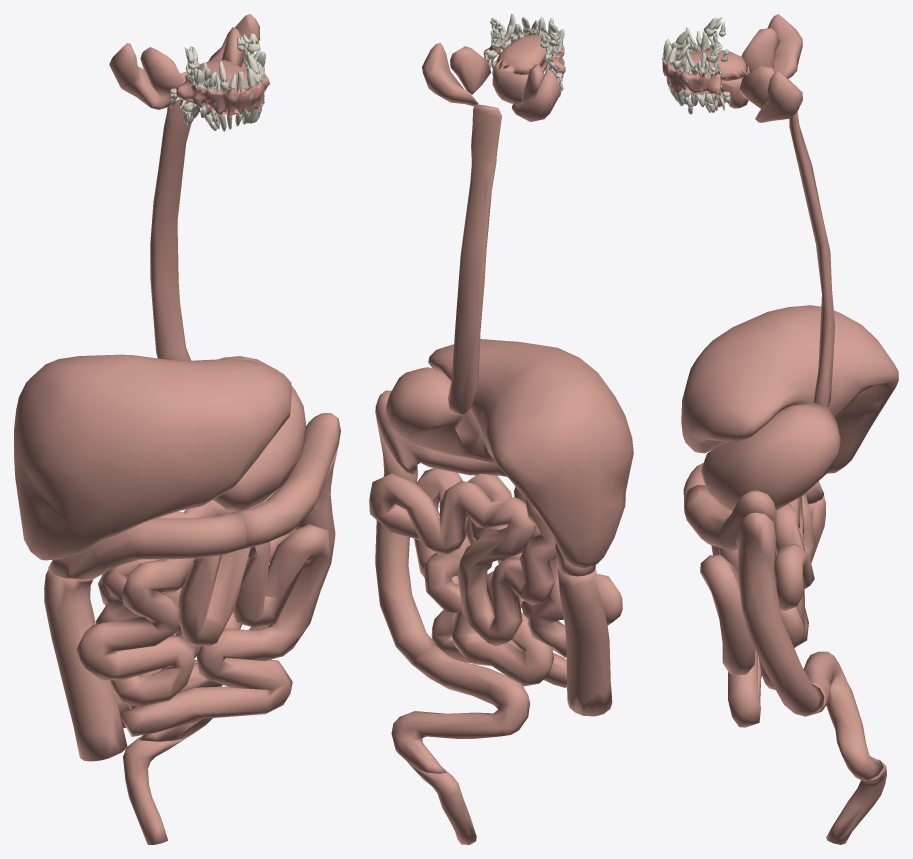
Rendered from pediatric_child_10y_male.digestive.LOD2.glb.
3 views of the same model, side by side, from view 1: azimuth 30°, elevation 25°; view 2: azimuth 150°, elevation 25°; view 3: azimuth 270°, elevation 25° (orthographic). The views are drawn at different scales.
Parts seen in each view (by area): view 1: PEDIATRIC.CHILD_10Y.MALE.DIGESTIVE.LIVER, PEDIATRIC.CHILD_10Y.MALE.DIGESTIVE.SMALL_INTESTINE_WALL, PEDIATRIC.CHILD_10Y.MALE.DIGESTIVE.ASCENDING_COLON_WALL, PEDIATRIC.CHILD_10Y.MALE.DIGESTIVE.OESOPHAGUS_WALL, PEDIATRIC.CHILD_10Y.MALE.DIGESTIVE.TRANSVERSE_COLON_WALL.R, PEDIATRIC.CHILD_10Y.MALE.DIGESTIVE.TRANSVERSE_COLON_WALL.L, PEDIATRIC.CHILD_10Y.MALE.DIGESTIVE.STOMACH_WALL, PEDIATRIC.CHILD_10Y.MALE.DIGESTIVE.SALIVARY_GLANDS.R, PEDIATRIC.CHILD_10Y.MALE.DIGESTIVE.RECTUM_WALL, PEDIATRIC.CHILD_10Y.MALE.DIGESTIVE.PERMANENT_CEMENTUM, PEDIATRIC.CHILD_10Y.MALE.DIGESTIVE.ORAL_MUCOSA_LIP_AND_CHEEK, PEDIATRIC.CHILD_10Y.MALE.DIGESTIVE.DESCENDING_COLON_WALL (+3 smaller); view 2: PEDIATRIC.CHILD_10Y.MALE.DIGESTIVE.SMALL_INTESTINE_WALL, PEDIATRIC.CHILD_10Y.MALE.DIGESTIVE.LIVER, PEDIATRIC.CHILD_10Y.MALE.DIGESTIVE.OESOPHAGUS_WALL, PEDIATRIC.CHILD_10Y.MALE.DIGESTIVE.SIGMOID_COLON_WALL, PEDIATRIC.CHILD_10Y.MALE.DIGESTIVE.ASCENDING_COLON_WALL, PEDIATRIC.CHILD_10Y.MALE.DIGESTIVE.STOMACH_WALL, PEDIATRIC.CHILD_10Y.MALE.DIGESTIVE.DESCENDING_COLON_WALL, PEDIATRIC.CHILD_10Y.MALE.DIGESTIVE.SALIVARY_GLANDS.L, PEDIATRIC.CHILD_10Y.MALE.DIGESTIVE.TRANSVERSE_COLON_WALL.L, PEDIATRIC.CHILD_10Y.MALE.DIGESTIVE.RECTUM_WALL, PEDIATRIC.CHILD_10Y.MALE.DIGESTIVE.SALIVARY_GLANDS.R, PEDIATRIC.CHILD_10Y.MALE.DIGESTIVE.PERMANENT_CEMENTUM (+2 smaller); view 3: PEDIATRIC.CHILD_10Y.MALE.DIGESTIVE.LIVER, PEDIATRIC.CHILD_10Y.MALE.DIGESTIVE.SMALL_INTESTINE_WALL, PEDIATRIC.CHILD_10Y.MALE.DIGESTIVE.STOMACH_WALL, PEDIATRIC.CHILD_10Y.MALE.DIGESTIVE.DESCENDING_COLON_WALL, PEDIATRIC.CHILD_10Y.MALE.DIGESTIVE.SIGMOID_COLON_WALL, PEDIATRIC.CHILD_10Y.MALE.DIGESTIVE.OESOPHAGUS_WALL, PEDIATRIC.CHILD_10Y.MALE.DIGESTIVE.TRANSVERSE_COLON_WALL.L, PEDIATRIC.CHILD_10Y.MALE.DIGESTIVE.SALIVARY_GLANDS.L, PEDIATRIC.CHILD_10Y.MALE.DIGESTIVE.SALIVARY_GLANDS.R, PEDIATRIC.CHILD_10Y.MALE.DIGESTIVE.PERMANENT_CEMENTUM, PEDIATRIC.CHILD_10Y.MALE.DIGESTIVE.RECTUM_WALL, PEDIATRIC.CHILD_10Y.MALE.DIGESTIVE.ORAL_MUCOSA_LIP_AND_CHEEK (+4 smaller).
Part boxes in pixels (box(x1,y1,x2,y2)): PEDIATRIC.CHILD_10Y.MALE.DIGESTIVE.LIVER: box(14, 354, 291, 560); PEDIATRIC.CHILD_10Y.MALE.DIGESTIVE.SMALL_INTESTINE_WALL: box(76, 488, 330, 736); PEDIATRIC.CHILD_10Y.MALE.DIGESTIVE.ASCENDING_COLON_WALL: box(44, 569, 127, 761); PEDIATRIC.CHILD_10Y.MALE.DIGESTIVE.OESOPHAGUS_WALL: box(150, 70, 191, 360); PEDIATRIC.CHILD_10Y.MALE.DIGESTIVE.TRANSVERSE_COLON_WALL.R: box(48, 513, 246, 579); PEDIATRIC.CHILD_10Y.MALE.DIGESTIVE.TRANSVERSE_COLON_WALL.L: box(231, 413, 340, 549); PEDIATRIC.CHILD_10Y.MALE.DIGESTIVE.STOMACH_WALL: box(213, 356, 306, 511); PEDIATRIC.CHILD_10Y.MALE.DIGESTIVE.SALIVARY_GLANDS.R: box(109, 43, 225, 114); PEDIATRIC.CHILD_10Y.MALE.DIGESTIVE.RECTUM_WALL: box(123, 736, 189, 844); PEDIATRIC.CHILD_10Y.MALE.DIGESTIVE.PERMANENT_CEMENTUM: box(170, 32, 265, 131); PEDIATRIC.CHILD_10Y.MALE.DIGESTIVE.ORAL_MUCOSA_LIP_AND_CHEEK: box(176, 65, 269, 117); PEDIATRIC.CHILD_10Y.MALE.DIGESTIVE.DESCENDING_COLON_WALL: box(249, 440, 339, 630); PEDIATRIC.CHILD_10Y.MALE.DIGESTIVE.SMALL_INTESTINE_WALL: box(369, 468, 622, 687); PEDIATRIC.CHILD_10Y.MALE.DIGESTIVE.LIVER: box(428, 339, 633, 568); PEDIATRIC.CHILD_10Y.MALE.DIGESTIVE.OESOPHAGUS_WALL: box(448, 104, 501, 415); PEDIATRIC.CHILD_10Y.MALE.DIGESTIVE.SIGMOID_COLON_WALL: box(391, 645, 529, 773); PEDIATRIC.CHILD_10Y.MALE.DIGESTIVE.ASCENDING_COLON_WALL: box(557, 567, 612, 716); PEDIATRIC.CHILD_10Y.MALE.DIGESTIVE.STOMACH_WALL: box(386, 367, 496, 463); PEDIATRIC.CHILD_10Y.MALE.DIGESTIVE.DESCENDING_COLON_WALL: box(375, 410, 435, 663); PEDIATRIC.CHILD_10Y.MALE.DIGESTIVE.SALIVARY_GLANDS.L: box(422, 42, 491, 106); PEDIATRIC.CHILD_10Y.MALE.DIGESTIVE.TRANSVERSE_COLON_WALL.L: box(375, 390, 507, 476); PEDIATRIC.CHILD_10Y.MALE.DIGESTIVE.RECTUM_WALL: box(408, 763, 476, 844); PEDIATRIC.CHILD_10Y.MALE.DIGESTIVE.SALIVARY_GLANDS.R: box(511, 64, 559, 121); PEDIATRIC.CHILD_10Y.MALE.DIGESTIVE.PERMANENT_CEMENTUM: box(490, 14, 564, 96); PEDIATRIC.CHILD_10Y.MALE.DIGESTIVE.LIVER: box(681, 305, 898, 473); PEDIATRIC.CHILD_10Y.MALE.DIGESTIVE.SMALL_INTESTINE_WALL: box(700, 493, 816, 727); PEDIATRIC.CHILD_10Y.MALE.DIGESTIVE.STOMACH_WALL: box(701, 403, 840, 511); PEDIATRIC.CHILD_10Y.MALE.DIGESTIVE.DESCENDING_COLON_WALL: box(735, 512, 824, 716); PEDIATRIC.CHILD_10Y.MALE.DIGESTIVE.SIGMOID_COLON_WALL: box(803, 651, 883, 781); PEDIATRIC.CHILD_10Y.MALE.DIGESTIVE.OESOPHAGUS_WALL: box(789, 111, 834, 406); PEDIATRIC.CHILD_10Y.MALE.DIGESTIVE.TRANSVERSE_COLON_WALL.L: box(684, 485, 776, 550); PEDIATRIC.CHILD_10Y.MALE.DIGESTIVE.SALIVARY_GLANDS.L: box(704, 66, 802, 122); PEDIATRIC.CHILD_10Y.MALE.DIGESTIVE.SALIVARY_GLANDS.R: box(741, 14, 802, 78); PEDIATRIC.CHILD_10Y.MALE.DIGESTIVE.PERMANENT_CEMENTUM: box(663, 17, 730, 114); PEDIATRIC.CHILD_10Y.MALE.DIGESTIVE.RECTUM_WALL: box(826, 759, 886, 844); PEDIATRIC.CHILD_10Y.MALE.DIGESTIVE.ORAL_MUCOSA_LIP_AND_CHEEK: box(662, 42, 721, 94).
Bounding box in the file's own units: 0.2206 × 0.6191 × 0.1634.
